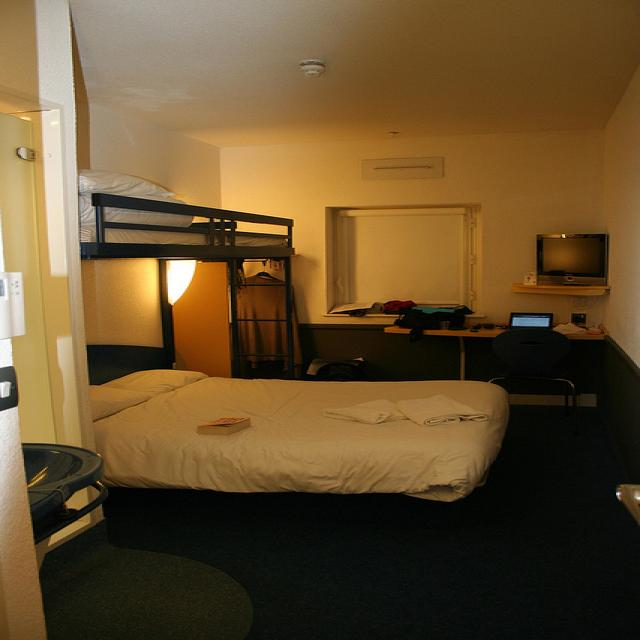Table: (291, 297, 640, 393)
chair: (501, 324, 594, 422)
